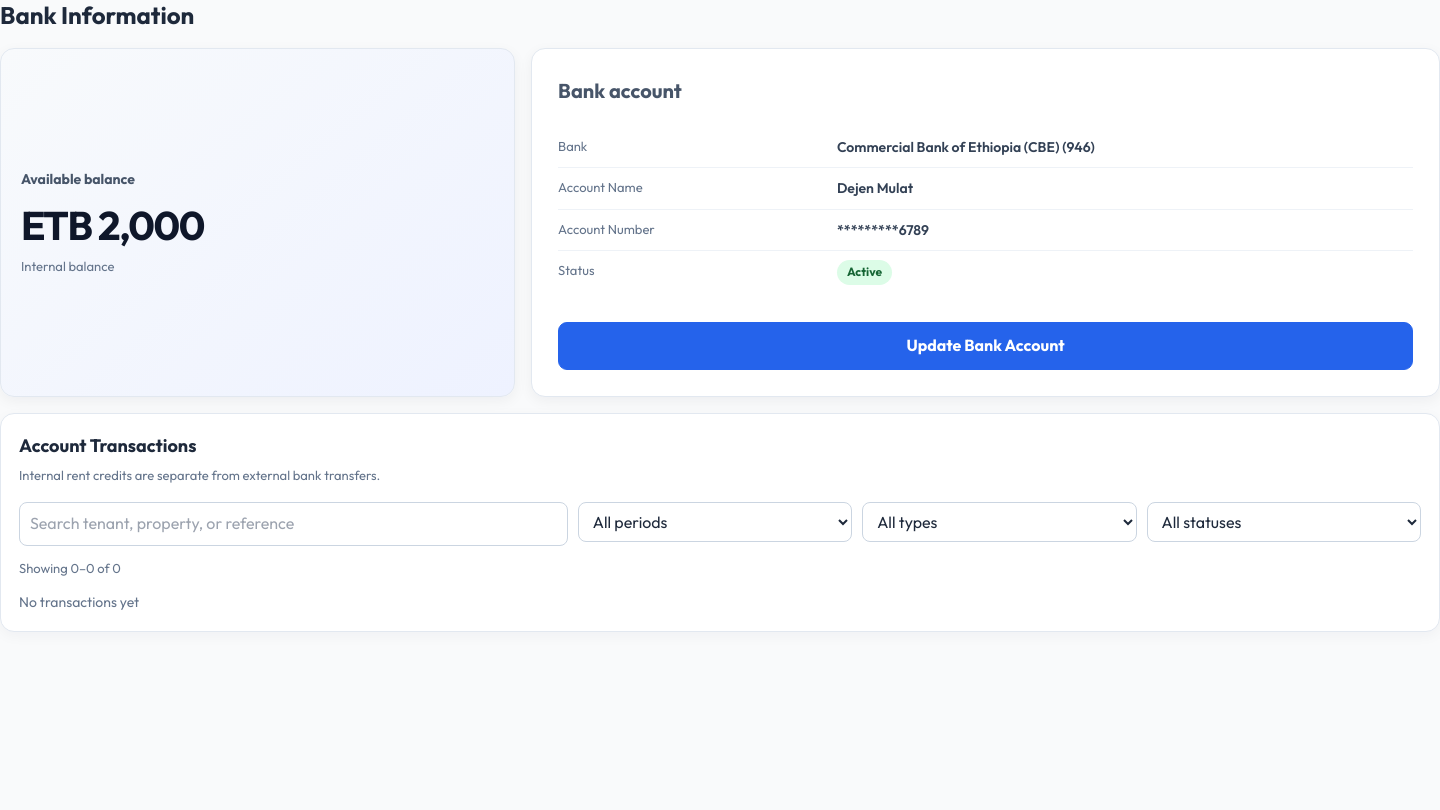
normalizes Chapa bank id and label fields into a selectable code and name
What coordinates should you click on to do the following:
click the button "Update Bank Account"
I would click on:
 (986, 346)
Its box is top-left (558, 322), bottom-right (1413, 370).
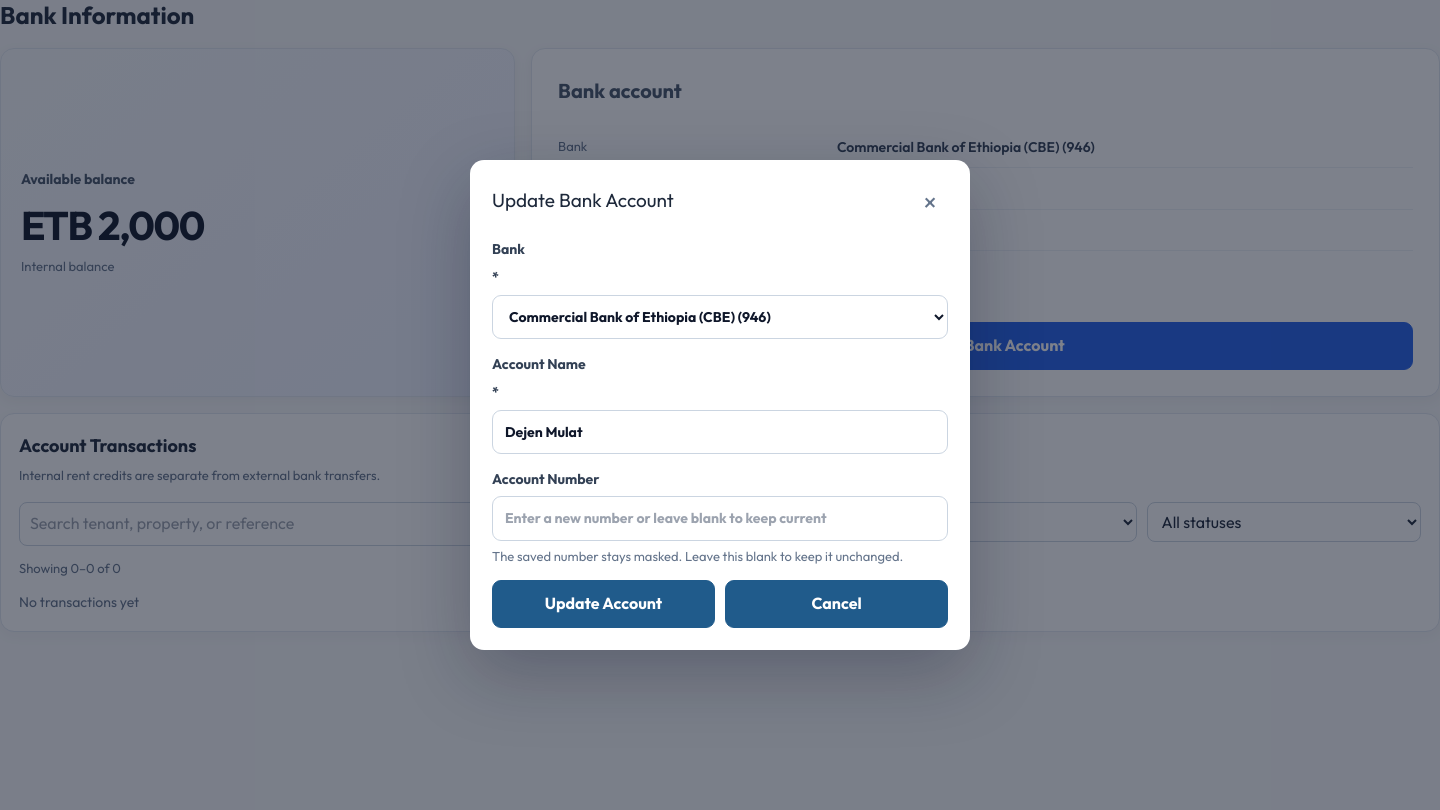
Check: the dropdown with id "update-landlord-bank" shows "Commercial Bank of Ethiopia (CBE) (946)", box top-left (492, 295), bottom-right (948, 339)
